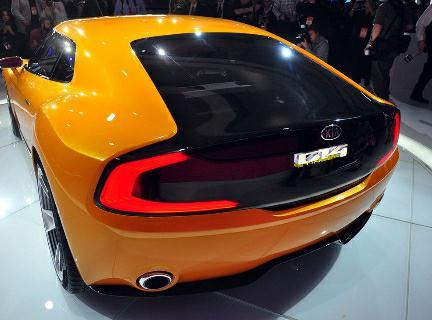起亚-GT4Stinger: (2, 8, 404, 302)
